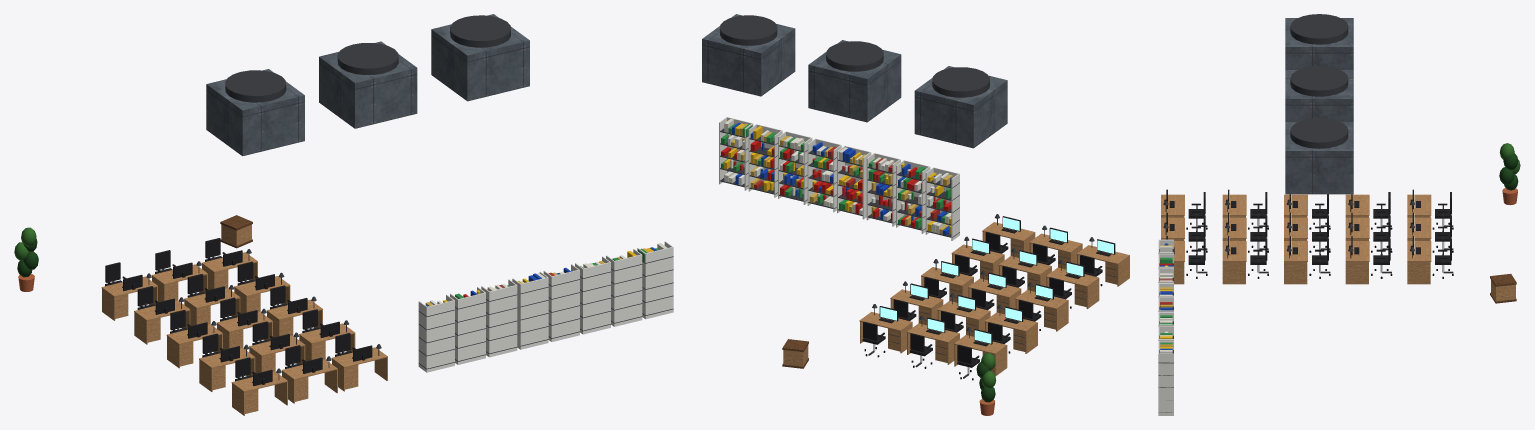
The model's file is i_cold_storage.gltf.
3 renders of one model, left to right at view 1: azimuth 30°, elevation 25°; view 2: azimuth 150°, elevation 25°; view 3: azimuth 270°, elevation 25°, orthographic. The views are drawn at different scales.
Parts seen in each view (by area): view 1: I_cold_storage; view 2: I_cold_storage; view 3: I_cold_storage.
Part boxes in pixels (<box>): I_cold_storage: <box>14,14,673,415</box>; I_cold_storage: <box>702,14,1129,415</box>; I_cold_storage: <box>1158,14,1520,415</box>.
Bounding box in the file's own units: 15.08 × 7.6 × 10.59.
20 materials, 4 textured.
